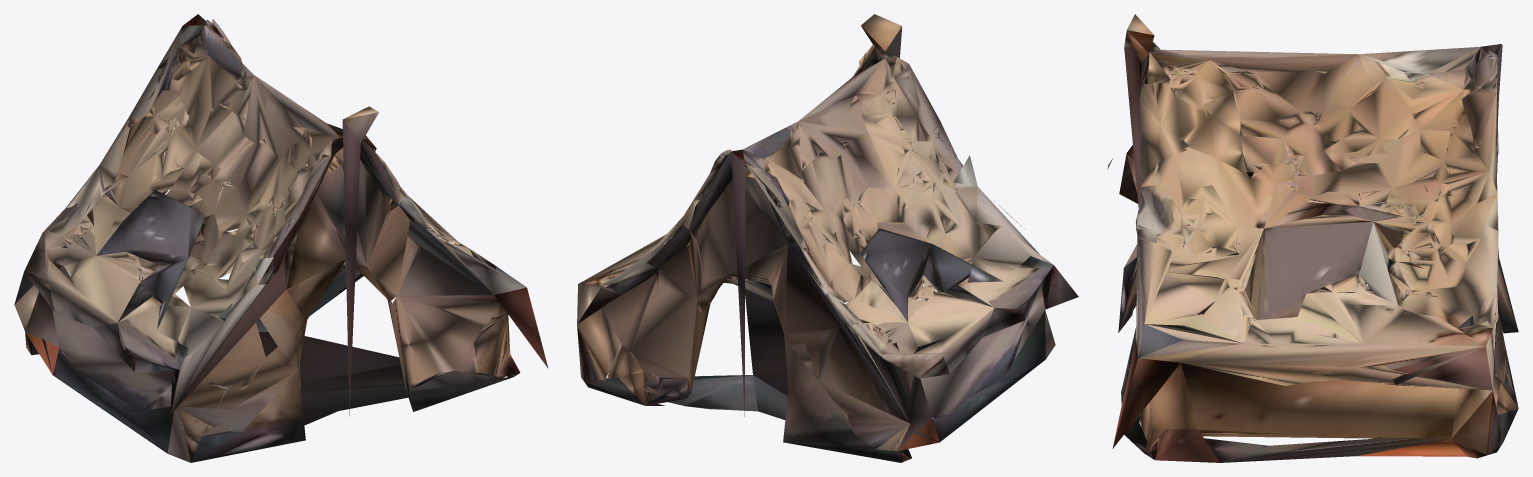
File: tent.opt.glb
3 renders of one model, left to right at view 1: azimuth 30°, elevation 25°; view 2: azimuth 150°, elevation 25°; view 3: azimuth 270°, elevation 25°, orthographic. The views are drawn at different scales.
Visible parts, largest first — view 1: tripo_node_aec050ad-dd53-4819-89eb-ab09f0681dac; view 2: tripo_node_aec050ad-dd53-4819-89eb-ab09f0681dac; view 3: tripo_node_aec050ad-dd53-4819-89eb-ab09f0681dac.
Part boxes in pixels (box(x1,y1,x2,y2)): tripo_node_aec050ad-dd53-4819-89eb-ab09f0681dac: box(14, 14, 548, 462); tripo_node_aec050ad-dd53-4819-89eb-ab09f0681dac: box(577, 14, 1078, 462); tripo_node_aec050ad-dd53-4819-89eb-ab09f0681dac: box(1107, 14, 1518, 462).
Size of the model in its own units: 0.9131 by 0.7214 by 0.7685.
1 material, 1 textured.
